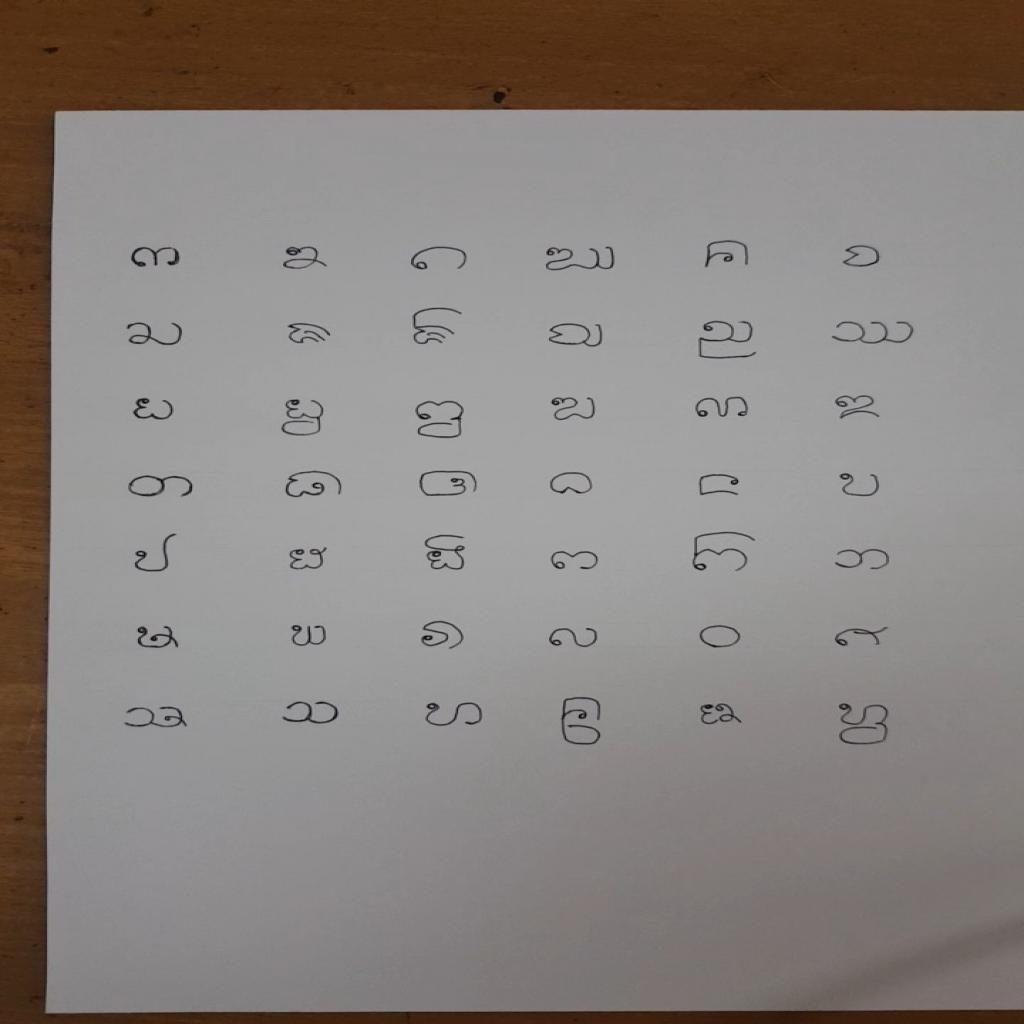LN001: (126, 243, 186, 272)
LN002: (278, 242, 335, 274)
LN003: (401, 243, 476, 275)
LN004: (537, 242, 624, 278)
LN005: (699, 238, 757, 272)
LN006: (837, 242, 889, 273)
LN007: (120, 319, 188, 351)
LN008: (283, 320, 338, 349)
LN009: (409, 306, 469, 349)
LN010: (542, 320, 608, 352)
LN011: (693, 317, 765, 365)
LN012: (825, 317, 924, 348)
LN013: (128, 395, 181, 425)
LN014: (278, 395, 332, 440)
LN015: (412, 399, 471, 444)
LN016: (548, 395, 603, 425)
LN017: (691, 392, 755, 422)
LN018: (831, 394, 886, 424)
LN019: (123, 472, 198, 502)
LN020: (278, 468, 352, 503)
LN021: (413, 467, 488, 502)
LN022: (547, 470, 600, 498)
LN023: (692, 471, 749, 500)
LN024: (835, 470, 888, 501)
LN025: (130, 530, 183, 577)
LN026: (285, 546, 331, 574)
LN027: (421, 532, 474, 575)
LN028: (546, 549, 605, 574)
LN029: (687, 529, 762, 577)
LN030: (829, 546, 898, 575)
LN031: (131, 622, 188, 655)
LN032: (284, 621, 335, 650)
LN033: (415, 616, 471, 654)
LN034: (544, 624, 605, 653)
LN035: (695, 623, 748, 652)
LN036: (829, 623, 897, 652)
LN037: (117, 703, 192, 733)
LN038: (273, 698, 347, 729)
LN039: (419, 699, 490, 732)
LN040: (556, 695, 609, 751)
LN041: (696, 699, 749, 729)
LN042: (831, 698, 898, 750)
